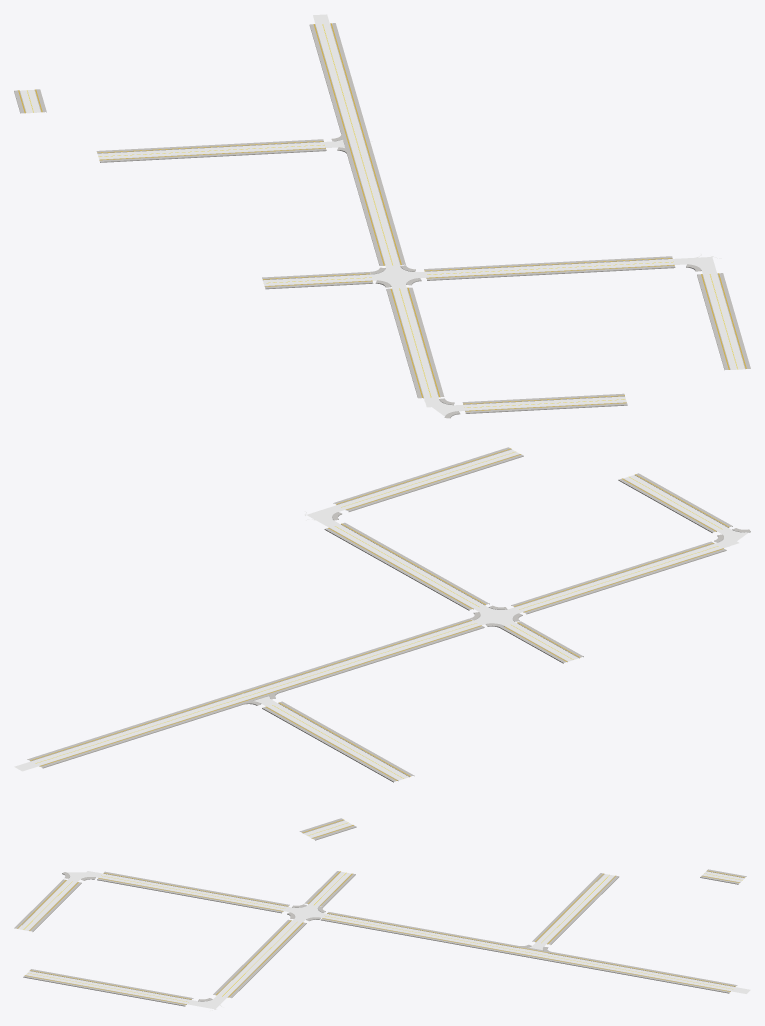
File: roads_3_-2.gltf
3 renders of one model, top to bottom at view 1: azimuth 30°, elevation 25°; view 2: azimuth 150°, elevation 25°; view 3: azimuth 270°, elevation 25°, orthographic. The views are drawn at different scales.
Visible parts, largest first — view 1: roads_3_-2_SH_wet_asphalt, roads_3_-2_SH_sidewalk, roads_3_-2_Road_Tactile_Strip, roads_3_-2_SH_kerb, roads_3_-2_SH_road_marking_white, roads_3_-2_SH_road_marking_yellow; view 2: roads_3_-2_SH_wet_asphalt, roads_3_-2_SH_sidewalk, roads_3_-2_Road_Tactile_Strip, roads_3_-2_SH_kerb, roads_3_-2_SH_road_marking_yellow, roads_3_-2_SH_road_marking_white; view 3: roads_3_-2_SH_wet_asphalt, roads_3_-2_SH_sidewalk, roads_3_-2_Road_Tactile_Strip, roads_3_-2_SH_kerb, roads_3_-2_SH_road_marking_white, roads_3_-2_SH_road_marking_yellow.
Boxes of the visible parts, x1,y1,x2,y2 form: roads_3_-2_SH_wet_asphalt: (20, 14, 744, 416); roads_3_-2_SH_sidewalk: (14, 23, 750, 418); roads_3_-2_Road_Tactile_Strip: (18, 23, 746, 411); roads_3_-2_SH_kerb: (19, 23, 745, 417); roads_3_-2_SH_road_marking_white: (20, 24, 744, 407); roads_3_-2_SH_road_marking_yellow: (27, 24, 737, 407); roads_3_-2_SH_wet_asphalt: (14, 449, 748, 837); roads_3_-2_SH_sidewalk: (27, 447, 750, 840); roads_3_-2_Road_Tactile_Strip: (30, 448, 729, 838); roads_3_-2_SH_kerb: (30, 449, 750, 838); roads_3_-2_SH_road_marking_yellow: (35, 452, 722, 835); roads_3_-2_SH_road_marking_white: (31, 449, 736, 833); roads_3_-2_SH_wet_asphalt: (19, 871, 750, 1009); roads_3_-2_SH_sidewalk: (14, 869, 746, 1006); roads_3_-2_Road_Tactile_Strip: (17, 870, 744, 1004); roads_3_-2_SH_kerb: (18, 871, 744, 1004); roads_3_-2_SH_road_marking_white: (19, 871, 743, 1010); roads_3_-2_SH_road_marking_yellow: (23, 872, 742, 1002).
Size of what is drawn, in the model's own units: 241 by 0.506 by 528.
